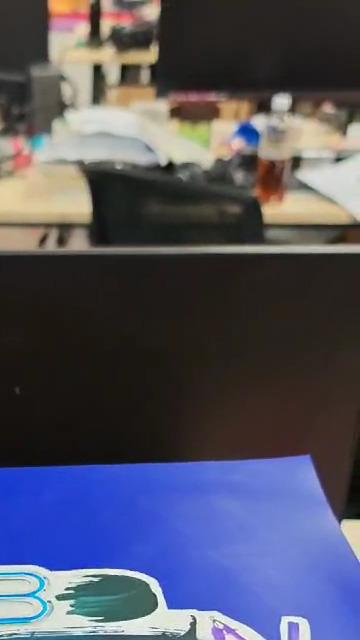B_R1: (0, 545, 320, 640)
